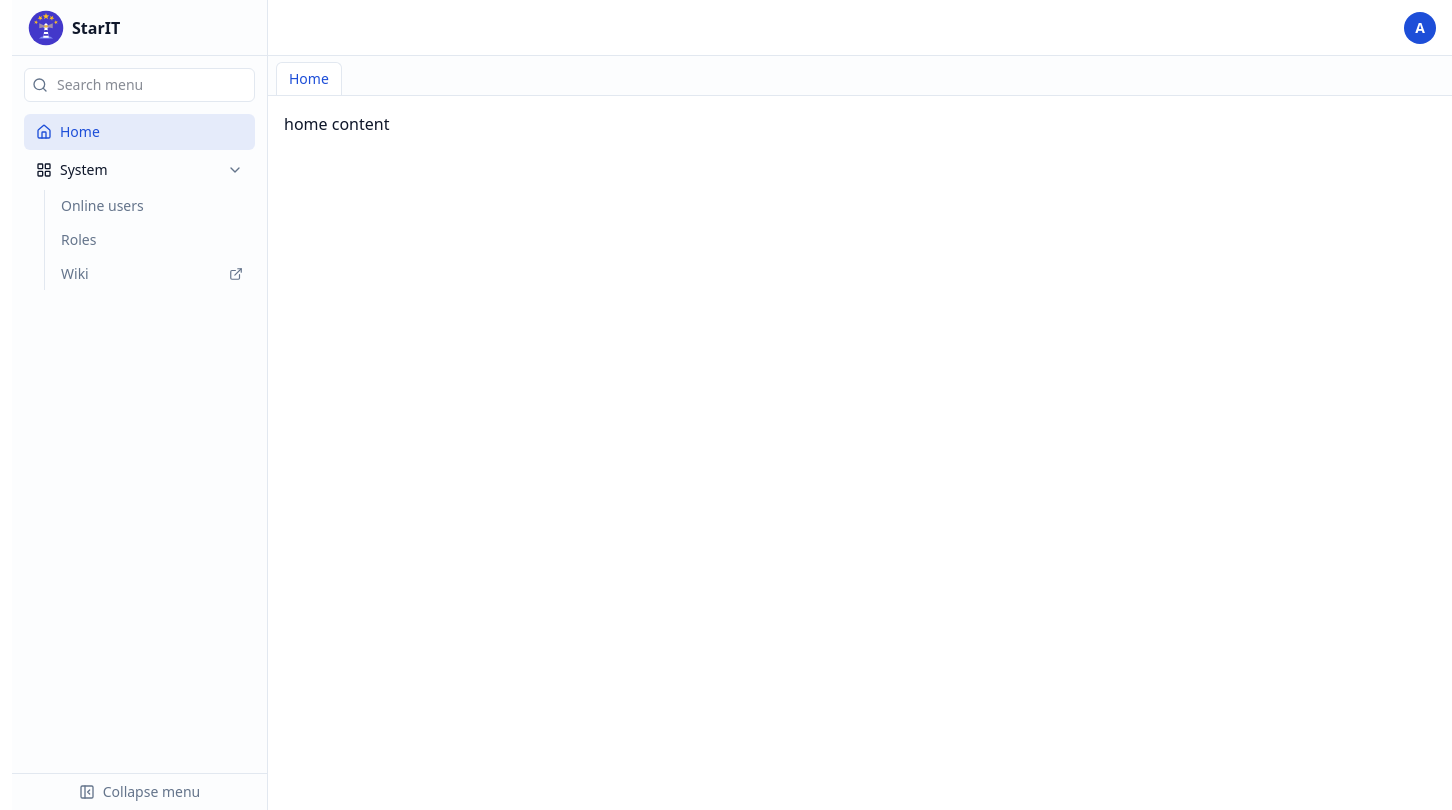
Test case: MenuTreeShell › lists Home at the top of the menu tree and returns to it from the tree
The width and height of the screenshot is (1452, 810).
Click the button "Online users" at (152, 206), box [49, 190, 255, 222]
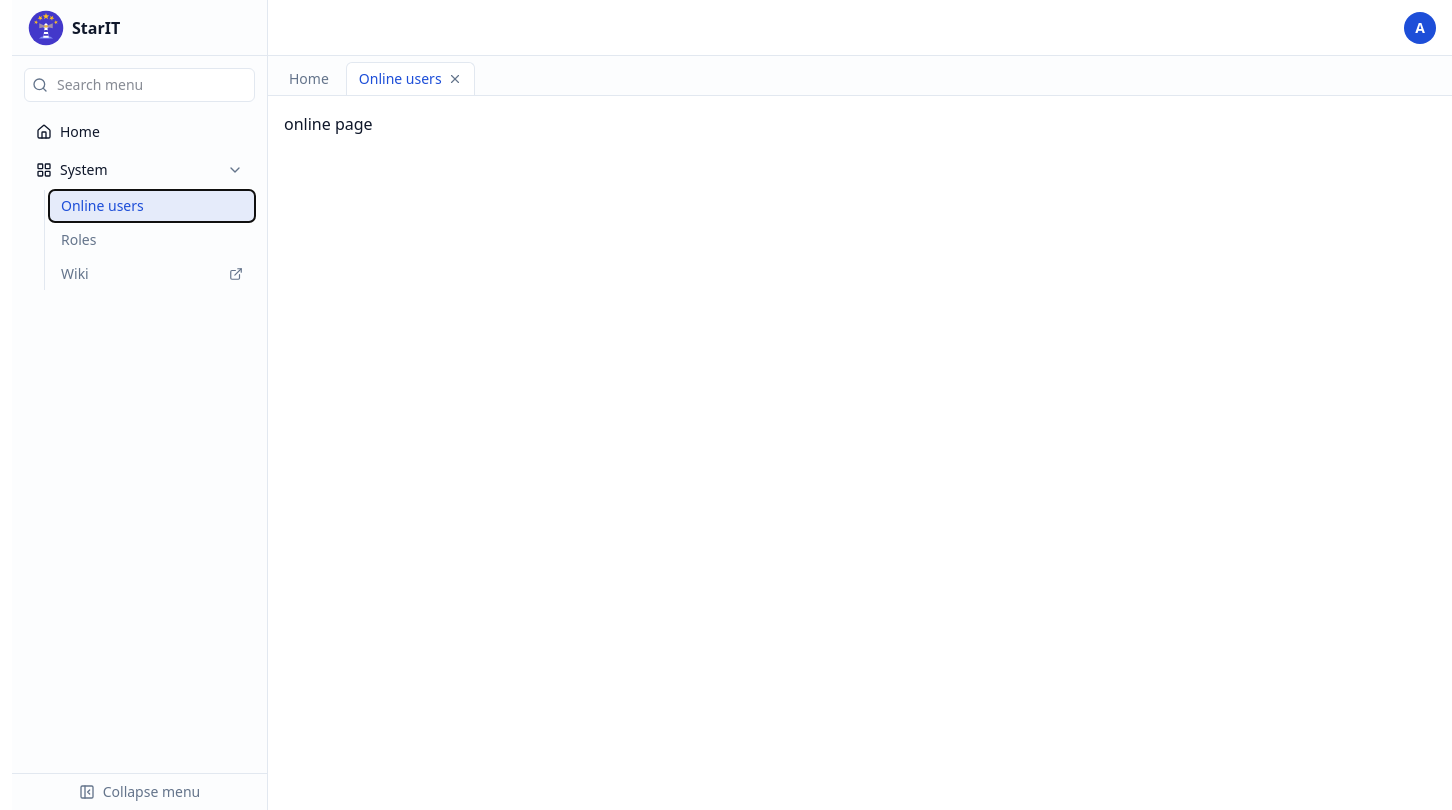
Now the text "online page" is shown, box [284, 113, 373, 135]
Click the button "Home" at (140, 132), box [24, 114, 255, 150]
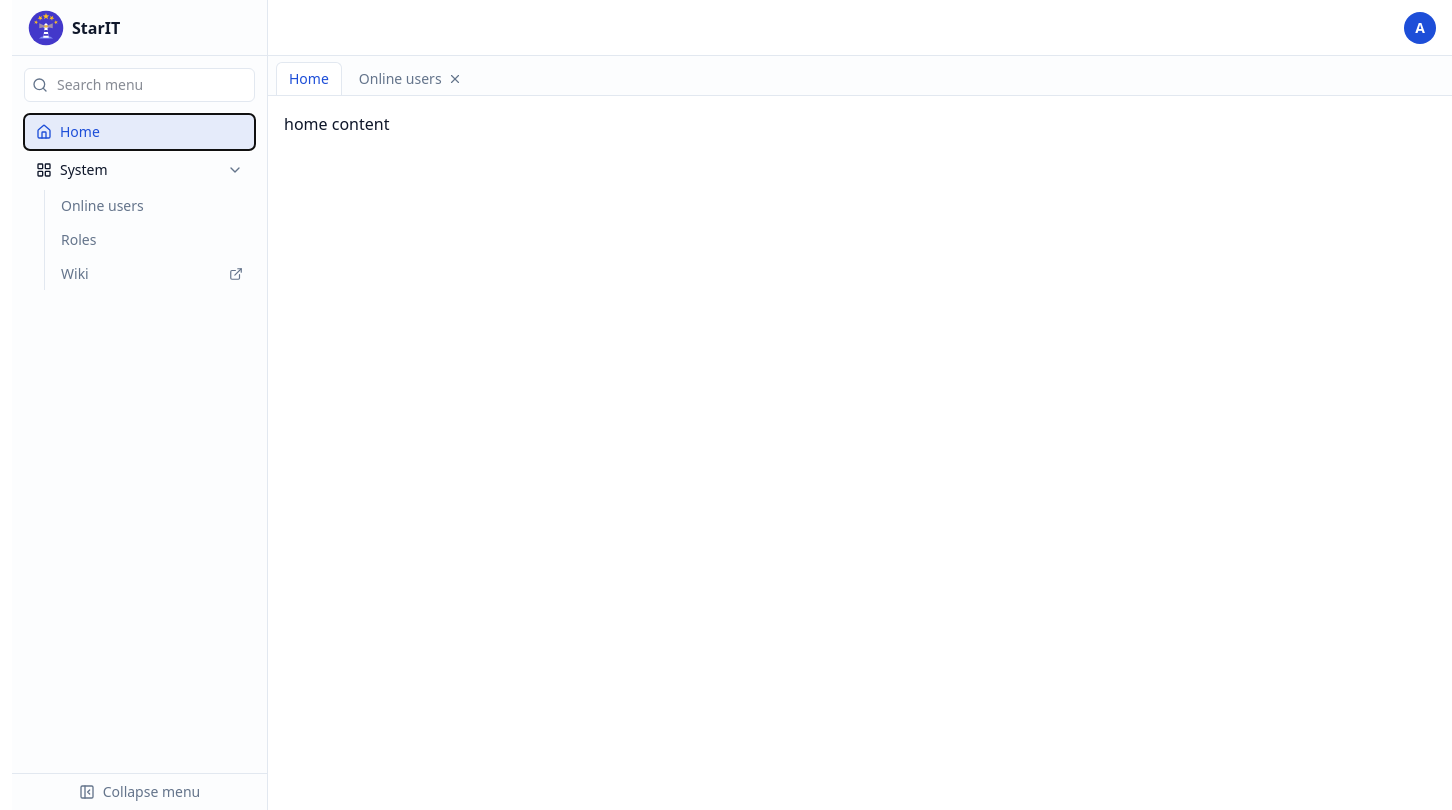
Now the text "home content" is shown, box [284, 113, 389, 135]
